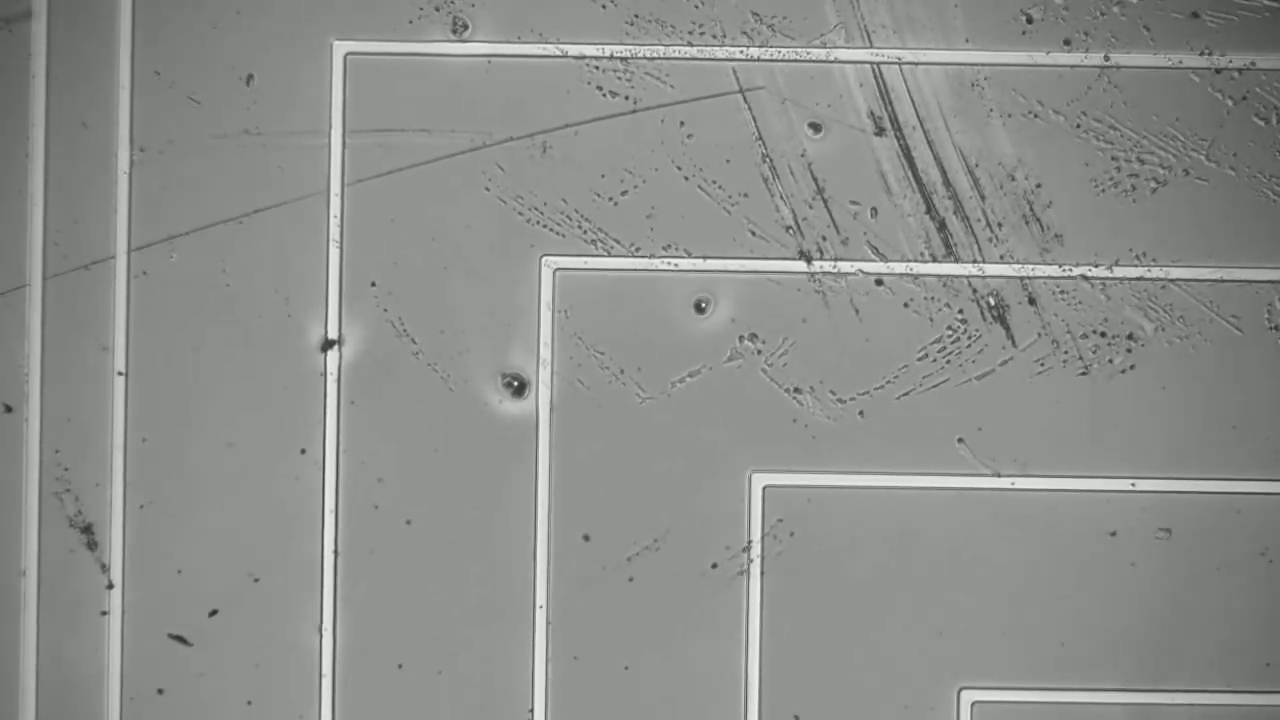scratch: (5, 81, 748, 298), (855, 7, 987, 282), (739, 58, 831, 275)
stains_enbedded: (304, 313, 357, 369)
